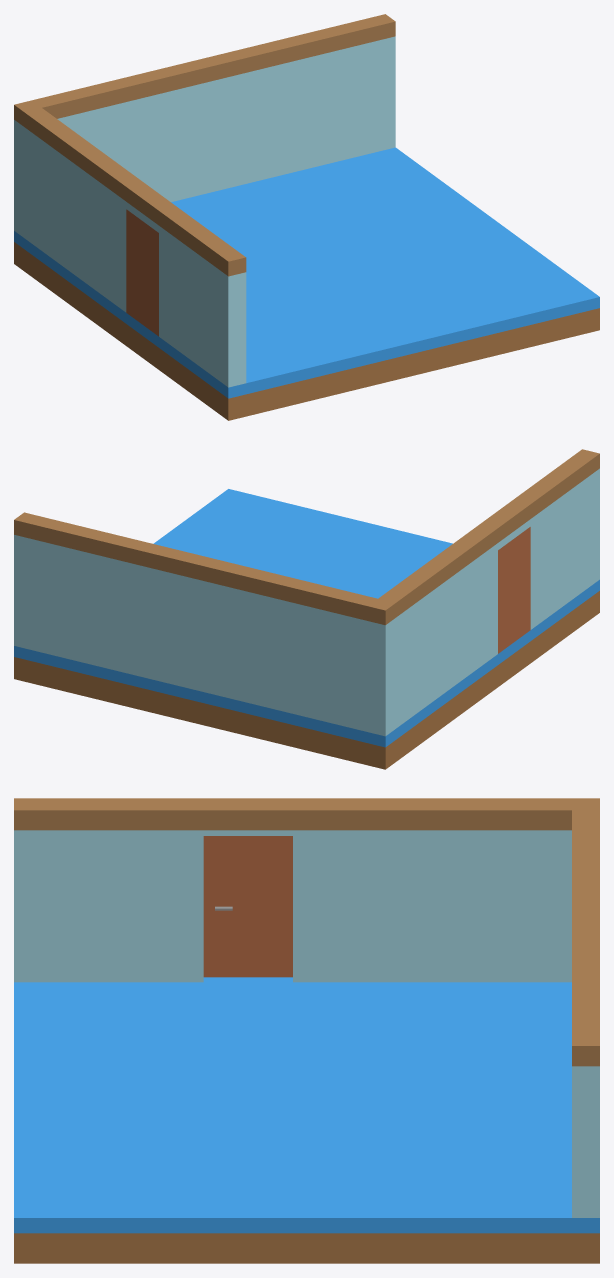
Rendered from room.obj.
The picture shows the model from 3 angles, top to bottom: view 1: azimuth 30°, elevation 25°; view 2: azimuth 150°, elevation 25°; view 3: azimuth 270°, elevation 25°; orthographic projection. The views are drawn at different scales.
Visible parts, largest first — view 1: Carpet_立方体, Wall_立方体.004, Ceiling_立方体.005, Floor_立方体.001, Door_立方体.002; view 2: Wall_立方体.004, Carpet_立方体, Ceiling_立方体.005, Floor_立方体.001, Door_立方体.002; view 3: Carpet_立方体, Wall_立方体.004, Ceiling_立方体.005, Floor_立方体.001, Door_立方体.002.
Part boxes in pixels (x1,y1,x2,y2): Carpet_立方体: (14, 147, 599, 398); Wall_立方体.004: (14, 36, 395, 387); Ceiling_立方体.005: (14, 14, 395, 276); Floor_立方体.001: (14, 242, 599, 420); Door_立方体.002: (126, 209, 158, 336); Wall_立方体.004: (14, 468, 599, 736); Carpet_立方体: (14, 489, 599, 747); Ceiling_立方体.005: (14, 449, 599, 625); Floor_立方体.001: (14, 591, 599, 769); Door_立方体.002: (498, 527, 530, 653); Carpet_立方体: (14, 977, 599, 1233); Wall_立方体.004: (14, 830, 599, 1217); Ceiling_立方体.005: (14, 798, 599, 1066); Floor_立方体.001: (14, 1233, 599, 1263); Door_立方体.002: (203, 836, 292, 977).
Bounding box in the file's own units: 5.25 × 2.15 × 5.25.
